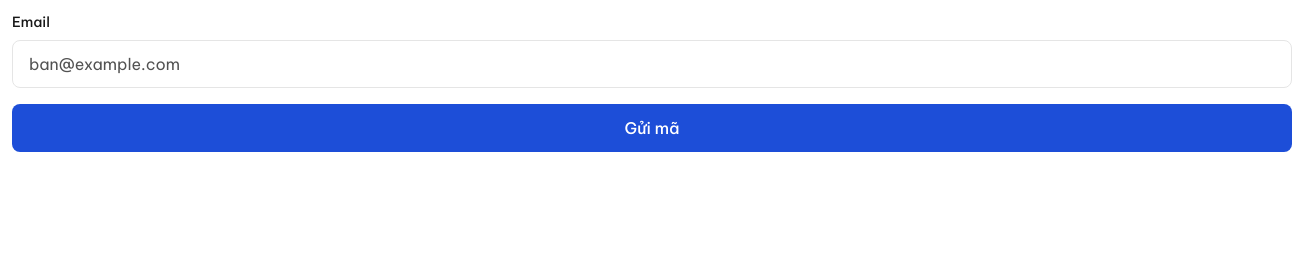
Test: OtpSignInForm › hiện lỗi tiếng Việt khi nhập sai mã và không chuyển trang
This screenshot has width=1304, height=279.
Type "sv@example.com" into the field labelled "Email" at coordinates (652, 64), box [12,40,1292,88]
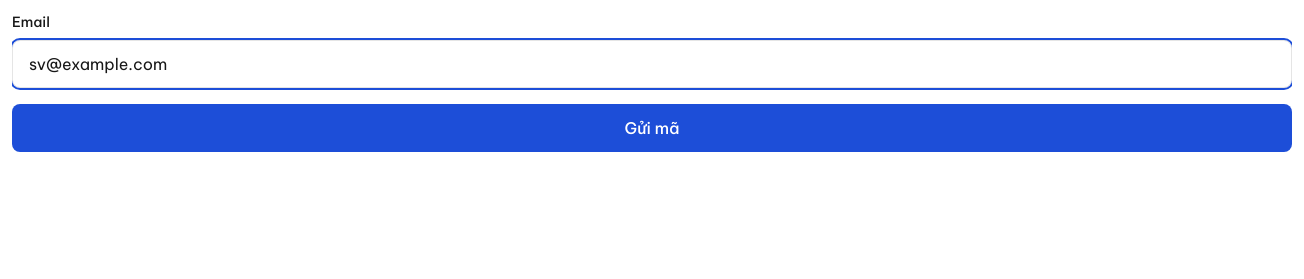
Click the button "Gửi mã" at coordinates (652, 128), box [12,104,1292,152]
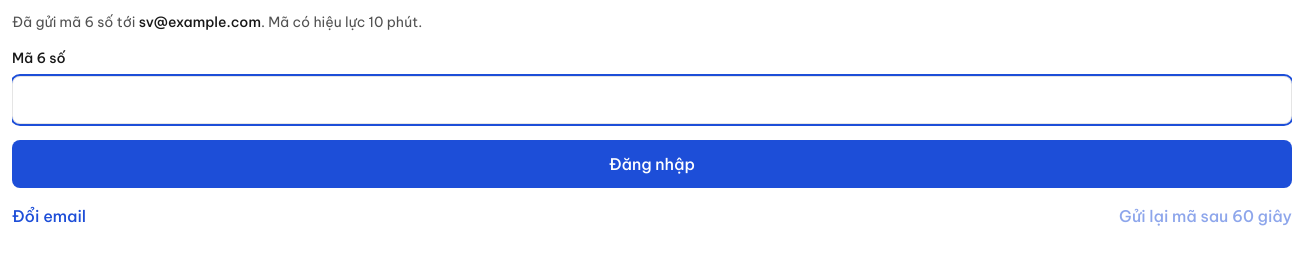
Type "000000" into the field labelled "Mã 6 số" at coordinates (652, 100), box [12,76,1292,124]
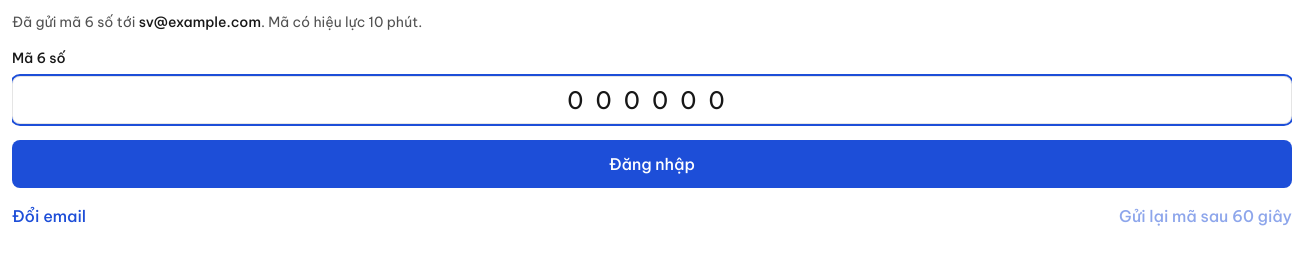
Click the button "Đăng nhập" at coordinates (652, 164), box [12,140,1292,188]
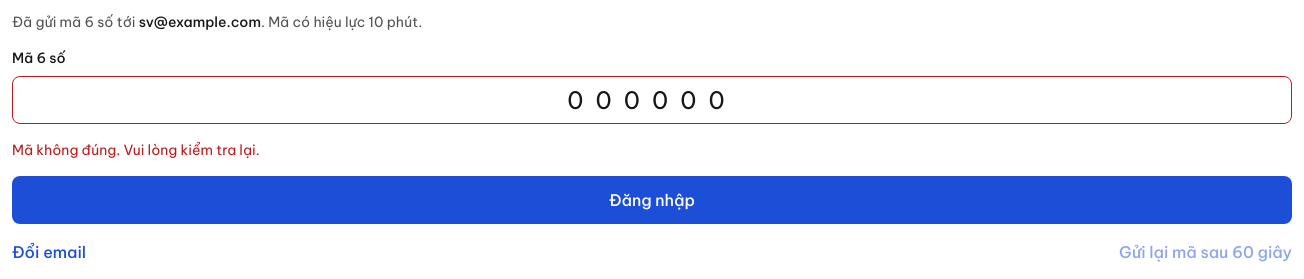
Result: the message shows "Mã không đúng." at [12,141,260,159]
